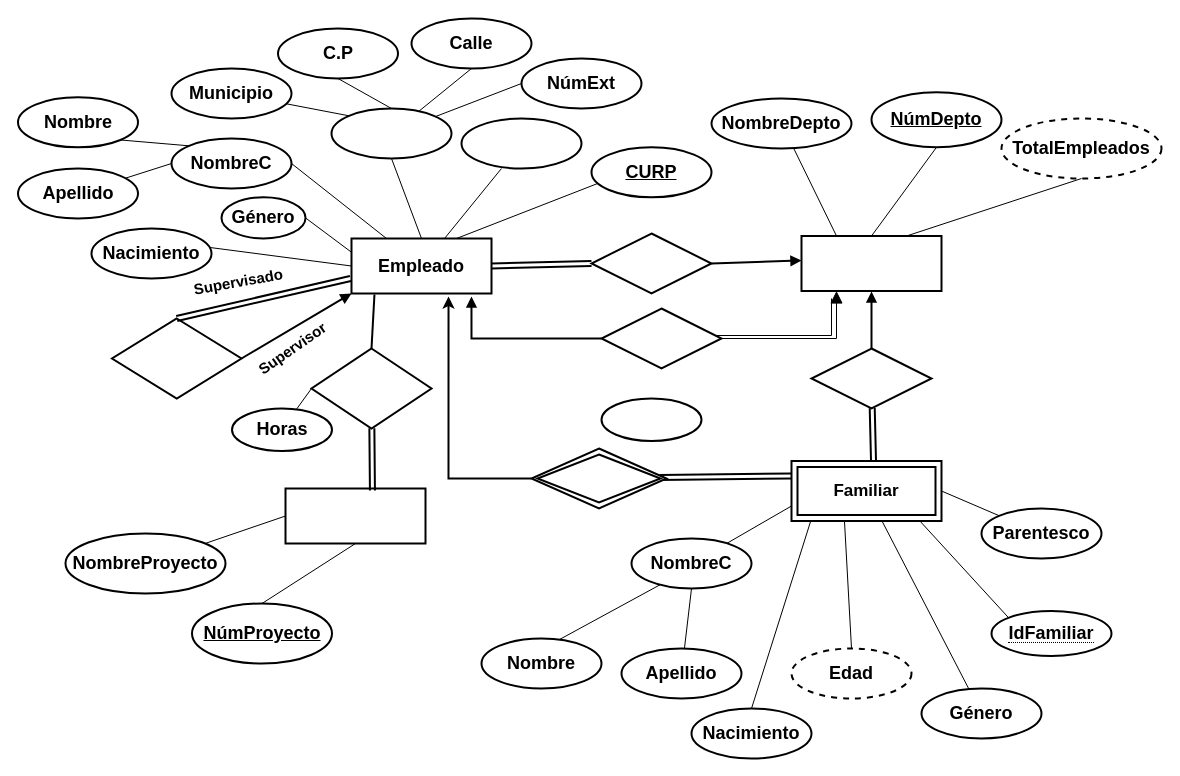
Some shapes in this 1180 by 776 pixel diagram are drawn without their labels. The shapes that lost their labels are listed below. From the top down, each one's centre as x and y in pixels, then its label:
the point at 391,133: Dirección
the point at 521,143: Salario
the point at 651,263: Asignar
the point at 871,263: Departamento
the point at 176,358: Supervisar
the point at 661,338: Dirigir
the point at 371,388: Colaborar
the point at 871,378: Controlar
the point at 651,419: Fecha
the point at 598,478: Tener
the point at 355,515: Proyecto
